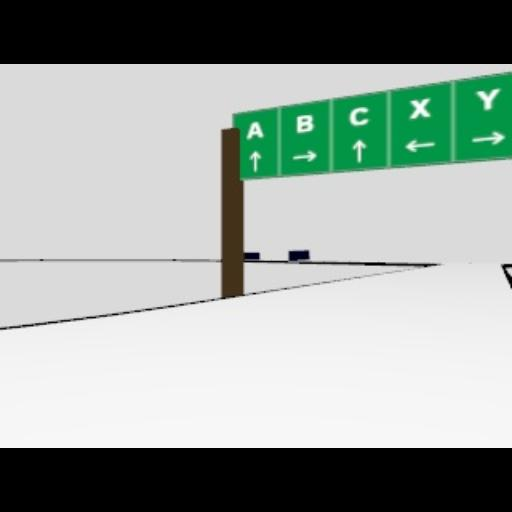A: (245, 120, 263, 140)
B: (296, 114, 314, 132)
C: (348, 106, 370, 126)
Left: (403, 138, 437, 152)
Right: (470, 131, 504, 145), (291, 148, 317, 162)
Straight: (350, 138, 366, 162), (248, 150, 260, 172)
X: (410, 98, 430, 118)
Y: (475, 88, 499, 110)
